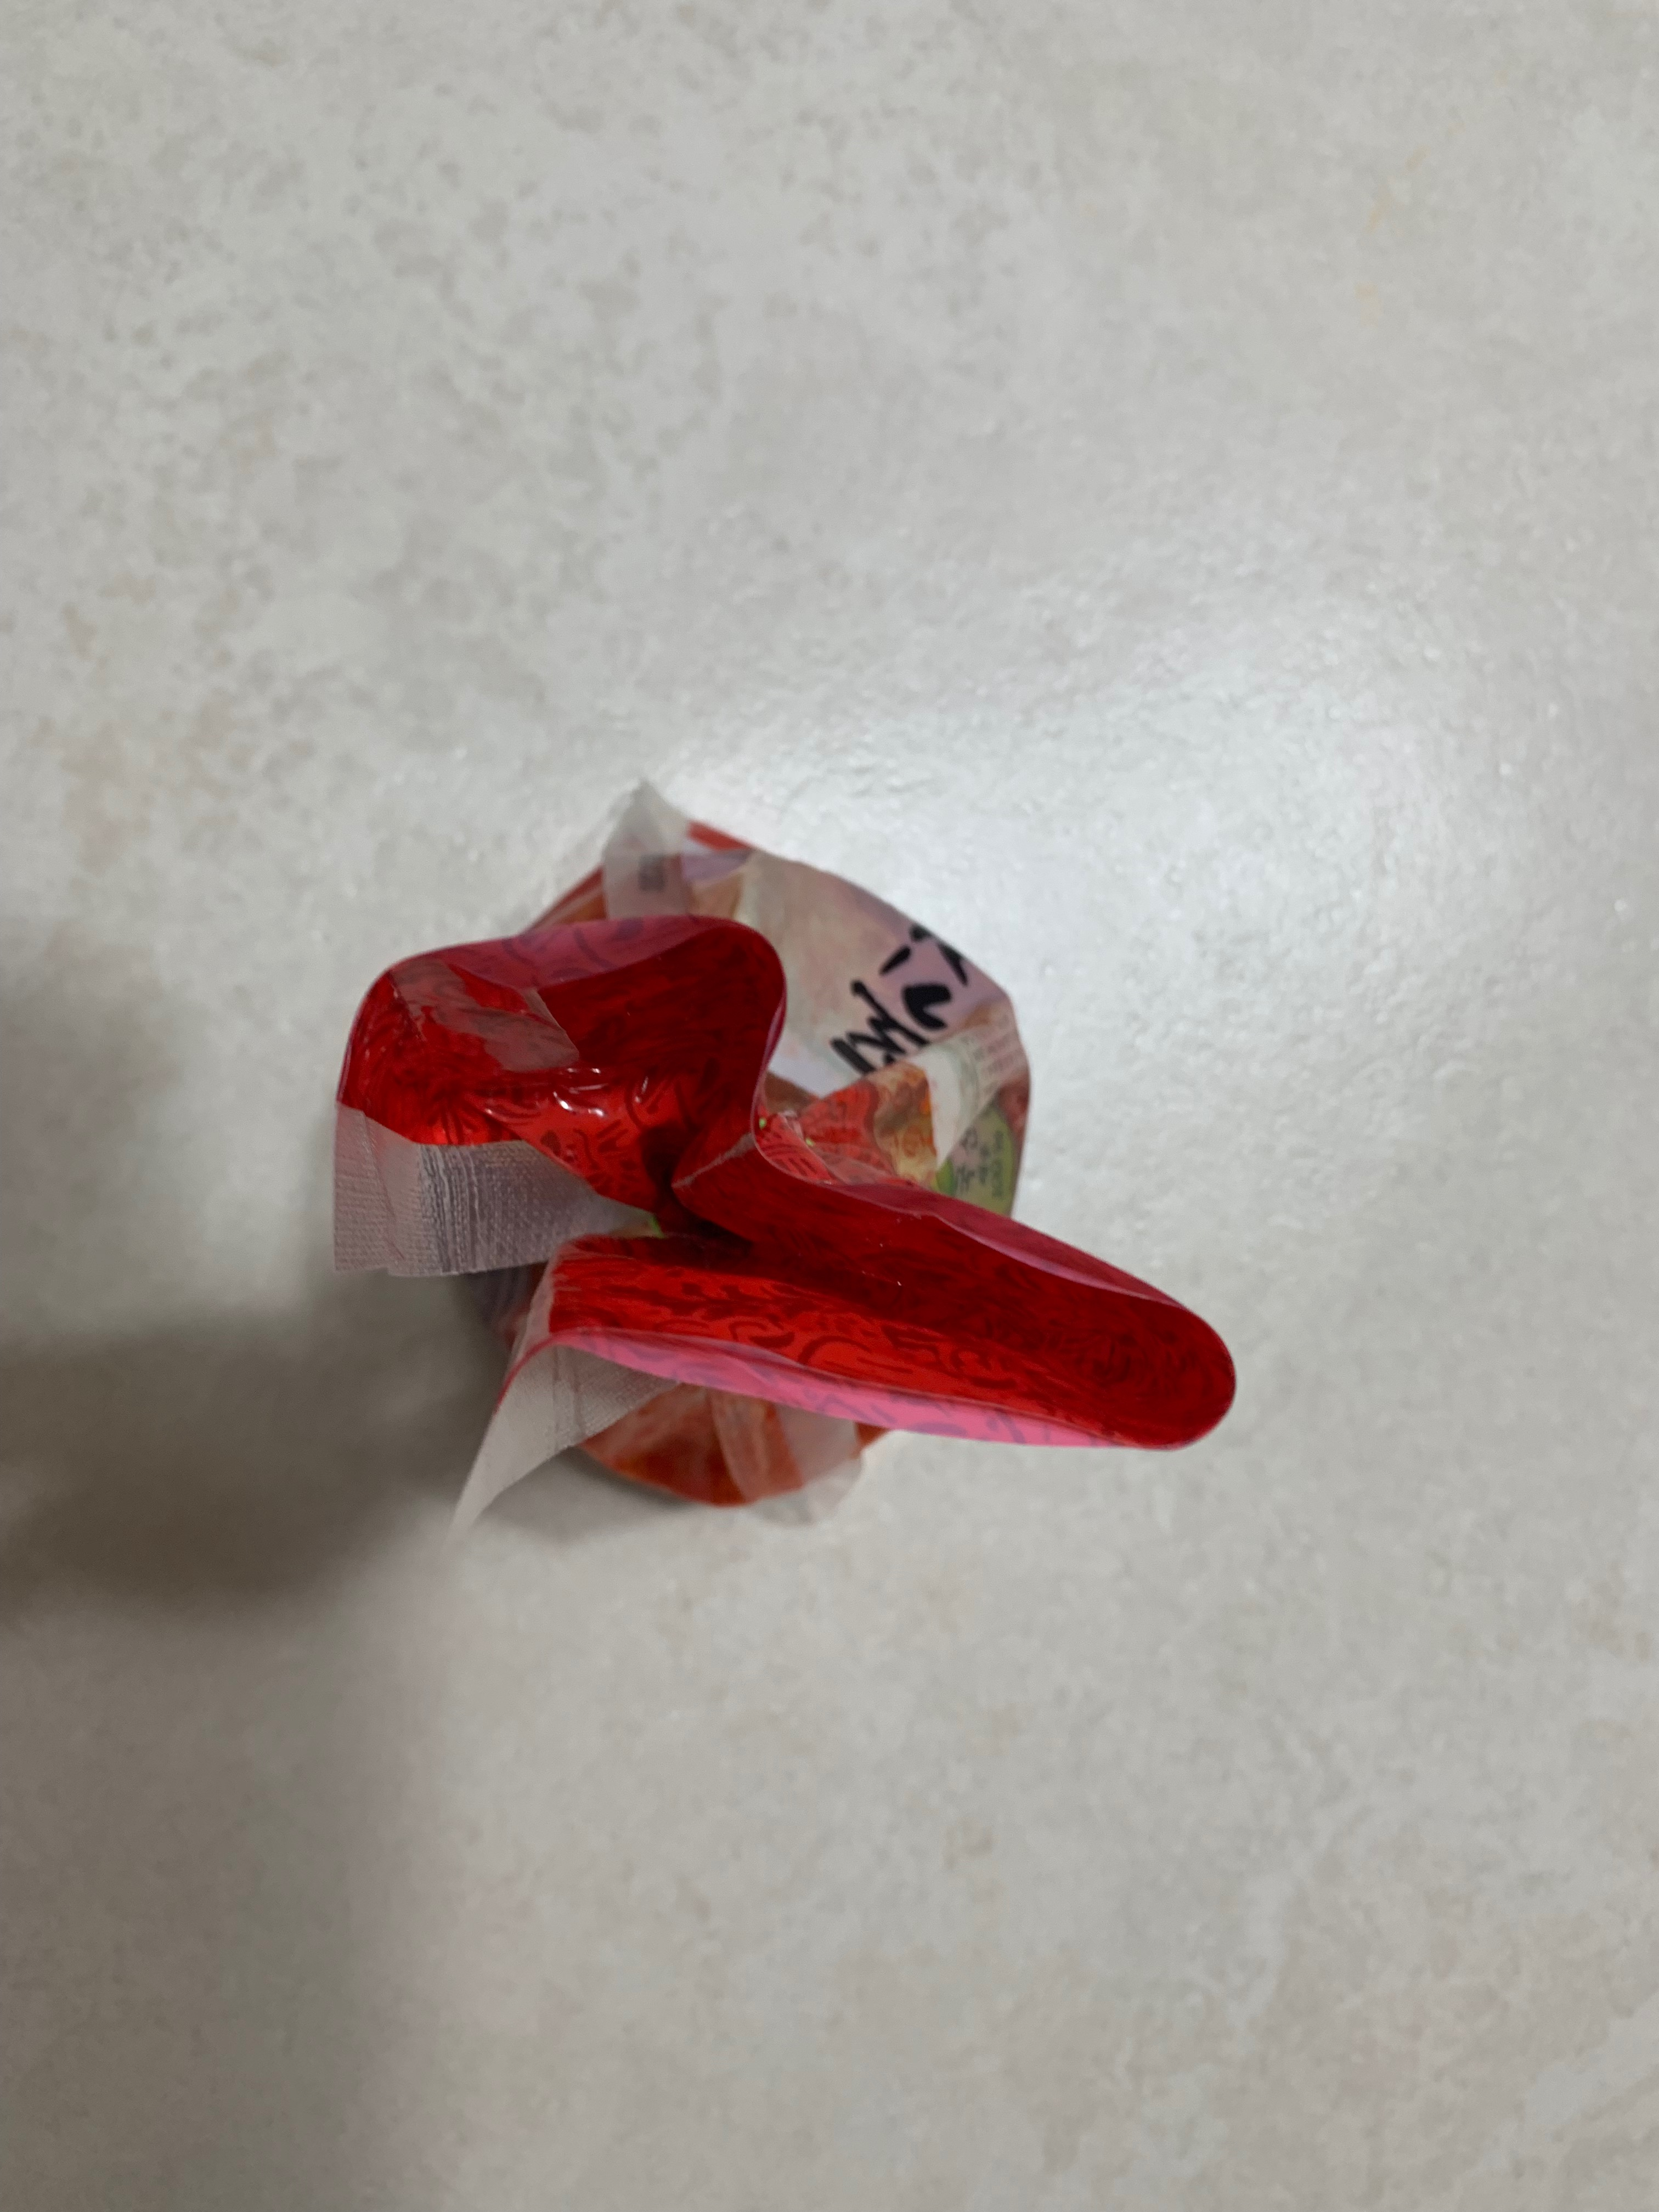kimchi: (336, 819, 1241, 1507)
